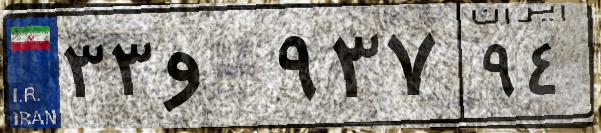3: (330, 28, 385, 110), (57, 26, 110, 100), (110, 28, 158, 98)
4: (525, 38, 570, 115)
7: (385, 28, 445, 110)
9: (270, 28, 330, 110), (475, 38, 525, 113)
و: (158, 20, 270, 120)
